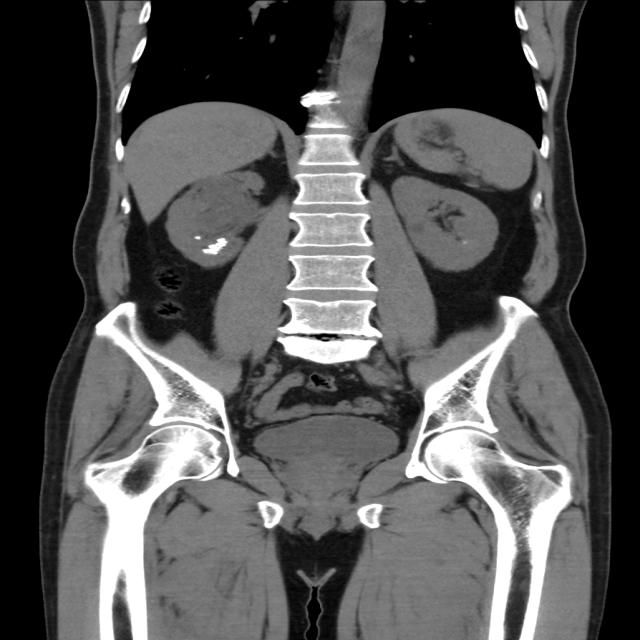kidneystone: (203, 238, 229, 255), (194, 235, 201, 240)
